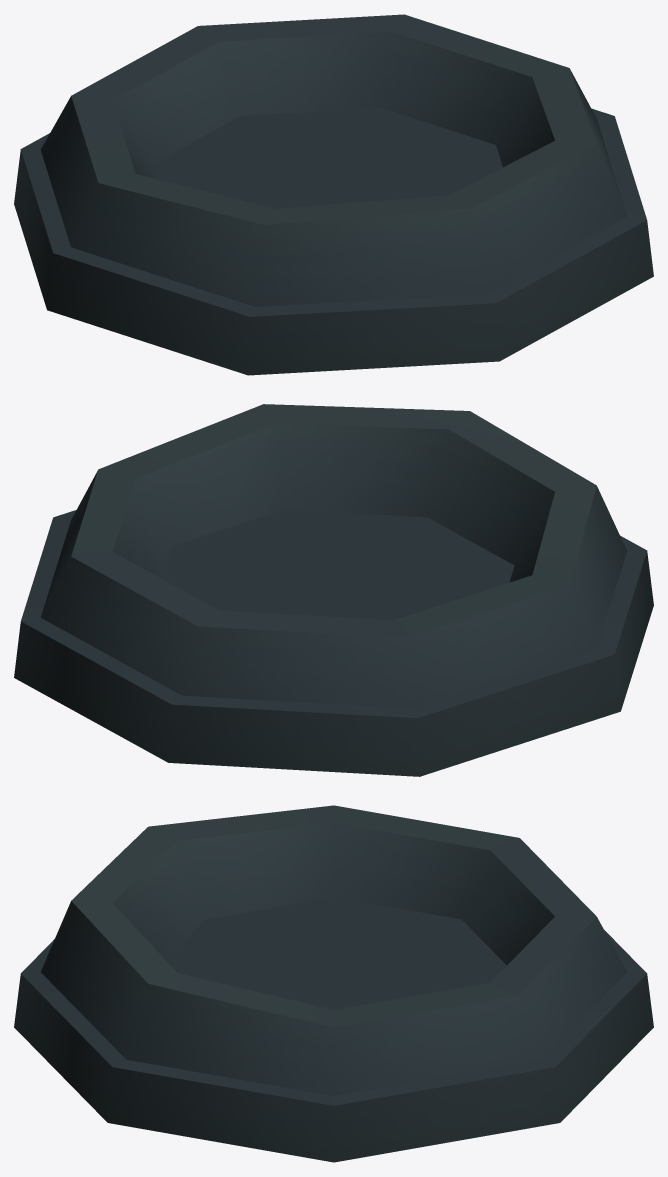
The model's file is Trash_pile_002.fbx.
3 views of the same model, one above another, from view 1: azimuth 30°, elevation 25°; view 2: azimuth 150°, elevation 25°; view 3: azimuth 270°, elevation 25° (orthographic). The views are drawn at different scales.
Visible parts, largest first — view 1: Trash_pile_002; view 2: Trash_pile_002; view 3: Trash_pile_002.
Part boxes in pixels (x1=…): Trash_pile_002: x1=14, y1=14, x2=653, y2=375; Trash_pile_002: x1=14, y1=404, x2=653, y2=776; Trash_pile_002: x1=14, y1=805, x2=653, y2=1162.
Size of the model in its own units: 12.16 by 12.16 by 2.67.
